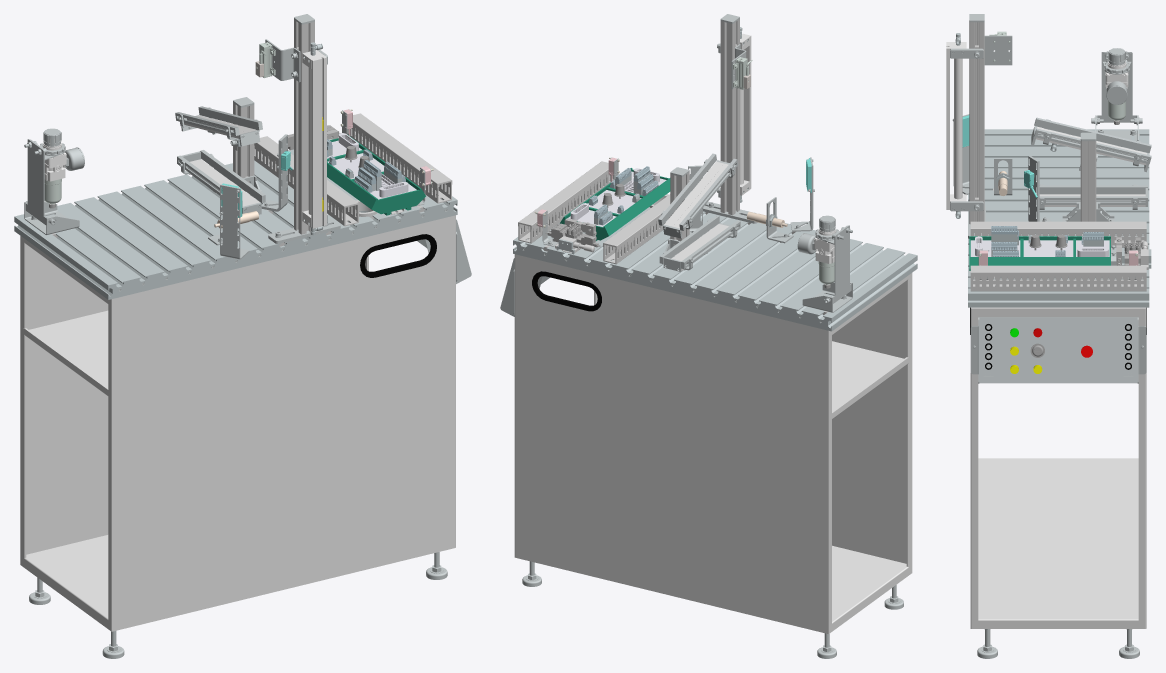
The model's file is Tram_kiem_tra_thieu.glb.
The picture shows the model from 3 angles, left to right: view 1: azimuth 30°, elevation 25°; view 2: azimuth 150°, elevation 25°; view 3: azimuth 270°, elevation 25°; orthographic projection. The views are drawn at different scales.
Visible parts, largest first — view 1: Ban_thi_nghiem, Tam_nhom_co_ranh, Tam_nhom_co_ranh-Nap, Mach_dieu_khien-Nhua_boc (×2), Module_nang_ha-Xylanh_nang_ha-Piston, Module_nang_ha-Truc_ga, Module_nhan_dang-Ga_guong, Bo_dieu_ap-Ga_tren, Mach_dieu_khien-IO_Terminal-Vo_mach, Ban_thi_nghiem-Dem, Module_mang_truot-Truc_ga, Bo_dieu_ap-Van (+5 smaller); view 2: Ban_thi_nghiem, Tam_nhom_co_ranh, Tam_nhom_co_ranh-Nap, Mach_dieu_khien-Nhua_boc (×2), Module_nang_ha-Truc_ga, Module_nang_ha-Xylanh_nang_ha-Piston, Module_mang_truot-Thanh_ben (×2), Bo_dieu_ap-Ga_tren, Module_mang_truot-De_mang_nghieng, Ban_thi_nghiem-Dem, Bo_dieu_ap-Van, Bo_dieu_ap-Ga_duoi (+1 smaller); view 3: Ban_thi_nghiem, Tam_nhom_co_ranh, Bang_dieu_khien, Mach_dieu_khien-Nhua_boc (×2), Module_mang_truot-Thanh_ben (×4), Module_nang_ha-Truc_ga, Module_nang_ha-Xylanh_nang_ha-Piston, Module_mang_truot-Truc_ga, Module_kiem_tra-Ga_cam_bien_do_chieu_cao, Bo_dieu_ap-Ga_tren, Mach_dieu_khien-Analog_Comparator-Vo_mach, Module_nhan_dang-Ga_cam_bien_BJX3M (+14 smaller).
Part boxes in pixels (x1=…): Ban_thi_nghiem: x1=20, y1=215, x2=455, y2=631; Tam_nhom_co_ranh: x1=15, y1=149, x2=455, y2=298; Tam_nhom_co_ranh-Nap: x1=107, y1=199, x2=457, y2=299; Mach_dieu_khien-Nhua_boc (×2): x1=254, y1=113, x2=452, y2=226; Module_nang_ha-Xylanh_nang_ha-Piston: x1=302, y1=50, x2=326, y2=228; Module_nang_ha-Truc_ga: x1=294, y1=14, x2=314, y2=234; Module_nhan_dang-Ga_guong: x1=220, y1=184, x2=249, y2=259; Bo_dieu_ap-Ga_tren: x1=25, y1=139, x2=55, y2=224; Mach_dieu_khien-IO_Terminal-Vo_mach: x1=344, y1=172, x2=425, y2=215; Ban_thi_nghiem-Dem: x1=360, y1=234, x2=436, y2=277; Module_mang_truot-Truc_ga: x1=233, y1=97, x2=254, y2=187; Bo_dieu_ap-Van: x1=42, y1=139, x2=66, y2=208; Ban_thi_nghiem: x1=514, y1=254, x2=912, y2=634; Tam_nhom_co_ranh: x1=514, y1=196, x2=916, y2=330; Tam_nhom_co_ranh-Nap: x1=513, y1=239, x2=832, y2=331; Mach_dieu_khien-Nhua_boc (×2): x1=518, y1=161, x2=670, y2=264; Module_nang_ha-Truc_ga: x1=720, y1=14, x2=739, y2=215; Module_nang_ha-Xylanh_nang_ha-Piston: x1=740, y1=33, x2=751, y2=195; Module_mang_truot-Thanh_ben (×2): x1=659, y1=155, x2=736, y2=228; Bo_dieu_ap-Ga_tren: x1=824, y1=225, x2=851, y2=303; Module_mang_truot-De_mang_nghieng: x1=664, y1=161, x2=728, y2=231; Ban_thi_nghiem-Dem: x1=532, y1=271, x2=601, y2=311; Bo_dieu_ap-Van: x1=814, y1=225, x2=836, y2=288; Bo_dieu_ap-Ga_duoi: x1=802, y1=282, x2=852, y2=312; Ban_thi_nghiem: x1=970, y1=307, x2=1146, y2=628; Tam_nhom_co_ranh: x1=970, y1=129, x2=1146, y2=307; Bang_dieu_khien: x1=970, y1=317, x2=1146, y2=383; Mach_dieu_khien-Nhua_boc (×2): x1=970, y1=221, x2=1146, y2=291; Module_mang_truot-Thanh_ben (×4): x1=1037, y1=118, x2=1148, y2=204; Module_nang_ha-Truc_ga: x1=969, y1=14, x2=984, y2=224; Module_nang_ha-Xylanh_nang_ha-Piston: x1=946, y1=42, x2=966, y2=209; Module_mang_truot-Truc_ga: x1=1080, y1=132, x2=1096, y2=221; Module_kiem_tra-Ga_cam_bien_do_chieu_cao: x1=984, y1=35, x2=1012, y2=65; Bo_dieu_ap-Ga_tren: x1=1096, y1=52, x2=1137, y2=125; Mach_dieu_khien-Analog_Comparator-Vo_mach: x1=1022, y1=236, x2=1074, y2=265; Module_nhan_dang-Ga_cam_bien_BJX3M: x1=1028, y1=156, x2=1052, y2=221.
Size of the model in its own units: 0.7939 by 1.22 by 0.3961.
